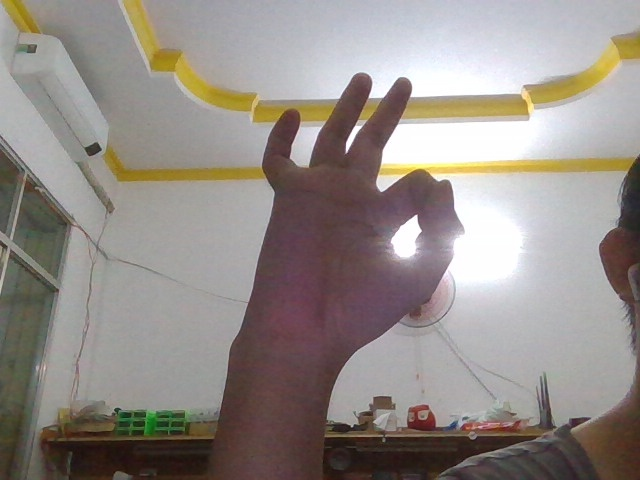okay: (223, 51, 494, 383)
